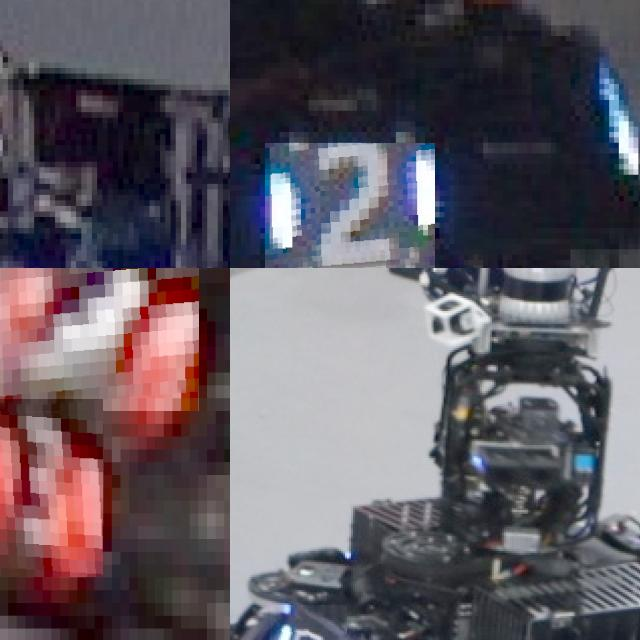B2: (265, 142, 434, 268)
Bs: (270, 605, 346, 640)
R3: (0, 268, 198, 411), (0, 398, 103, 577)
